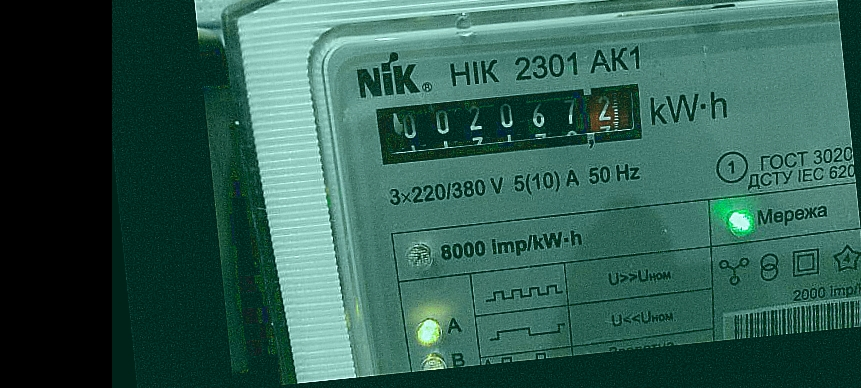0: (399, 110, 420, 140), (495, 98, 516, 128), (433, 105, 453, 135)
2: (594, 91, 615, 122), (466, 101, 485, 132)
6: (529, 98, 549, 128)
7: (561, 95, 580, 126)
screen: (361, 67, 660, 178)
